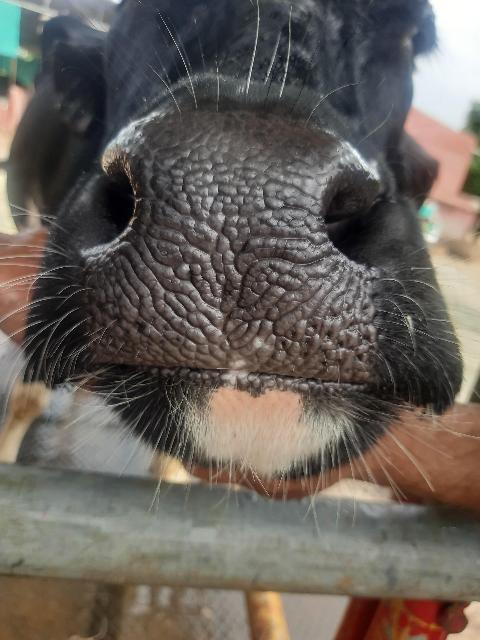Muzzle: (101, 124, 374, 393)
